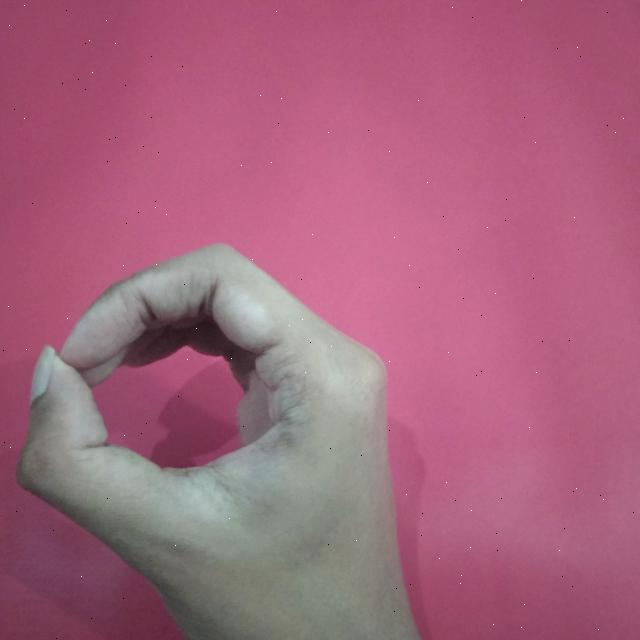O: (7, 232, 437, 640)
